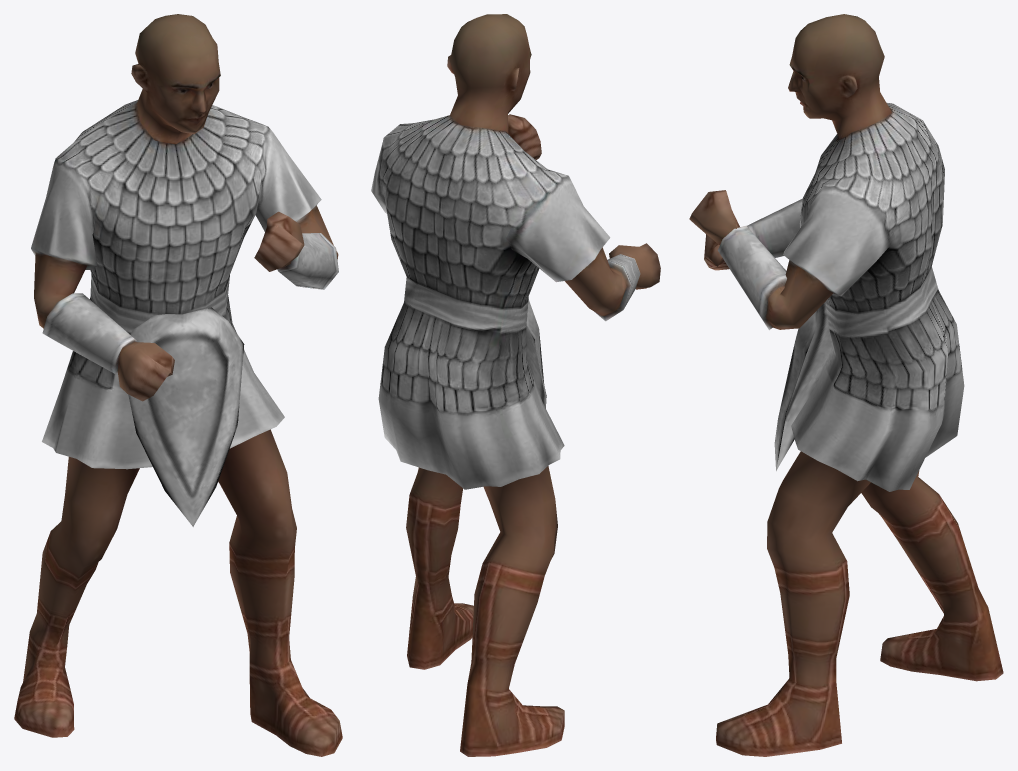
File: body-championaxemen.glb
3 renders of one model, left to right at view 1: azimuth 30°, elevation 25°; view 2: azimuth 150°, elevation 25°; view 3: azimuth 270°, elevation 25°, orthographic. The views are drawn at different scales.
Bounding box in the file's own units: 0.7944 × 1.99 × 0.8272.
1 material, 1 textured.
